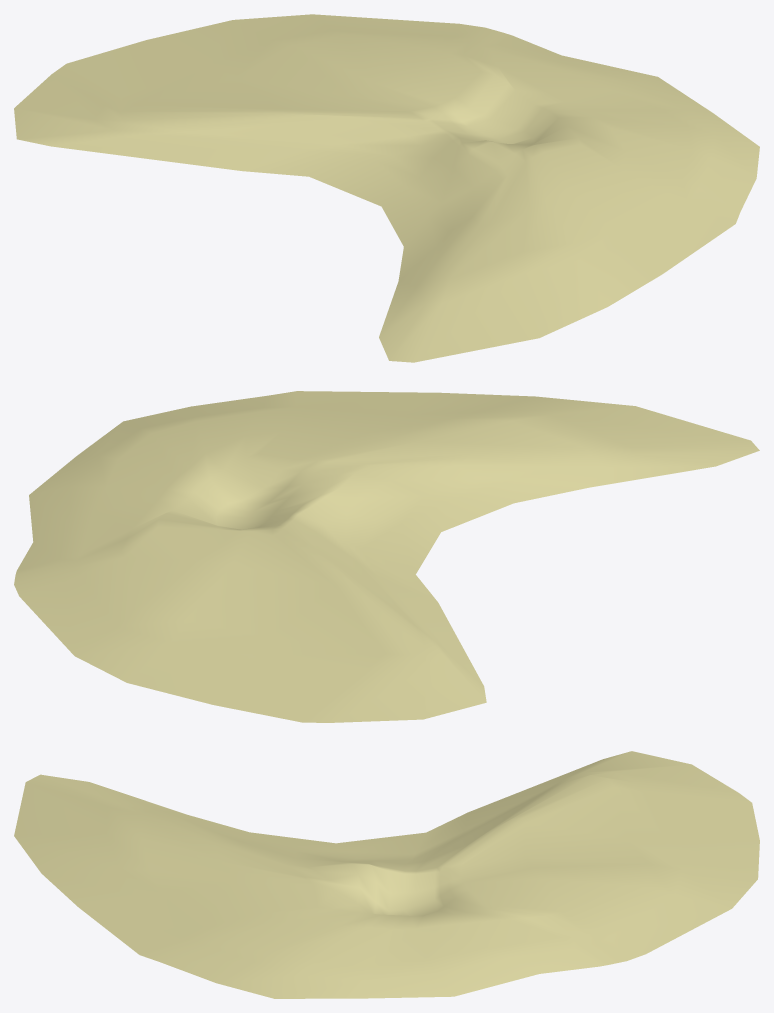
File: island_geo.fbx
3 renders of one model, top to bottom at view 1: azimuth 30°, elevation 25°; view 2: azimuth 150°, elevation 25°; view 3: azimuth 270°, elevation 25°, orthographic. The views are drawn at different scales.
Parts seen in each view (by area): view 1: beach; view 2: beach; view 3: beach.
Part boxes in pixels (x1,y1,x2,y2): beach: (14,14,759,362); beach: (14,391,759,722); beach: (14,751,759,998).
Bounding box in the file's own units: 561 × 25.7 × 714.
